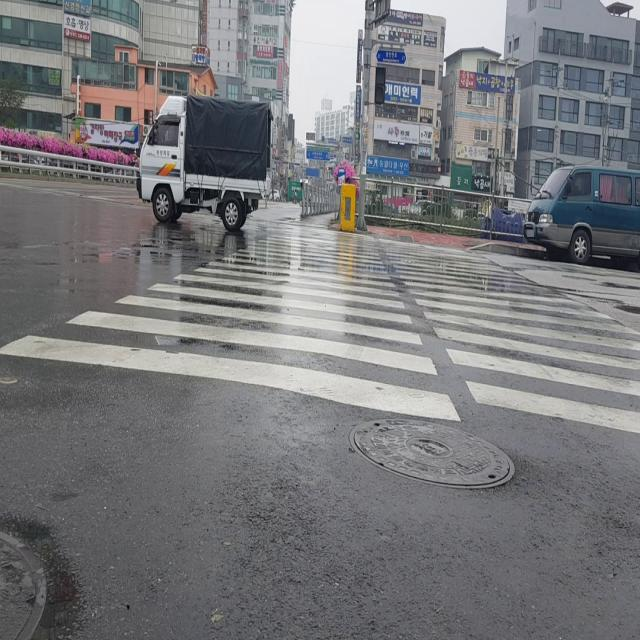횡단보도: (0, 222, 640, 438)
